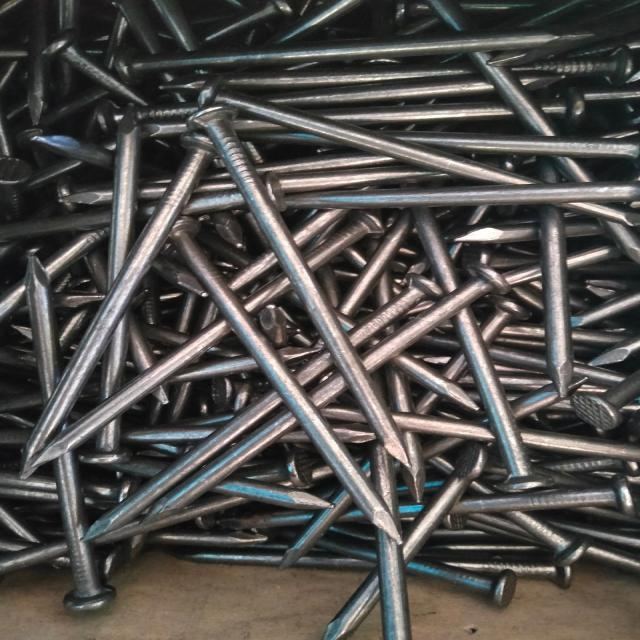3x8 nail: (172, 98, 463, 550), (15, 120, 258, 494)
